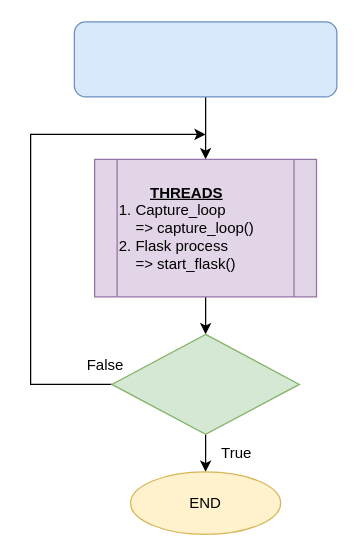
Image size: 359x556. Some labels were removed from this diagram. The shapes that lost their labels are listed below. From the top down, each one's centre as x and y in pixels, then its label:
point (205, 59): CAMERA control capture (CameraController/camera.py)
point (205, 383): Exit program?
